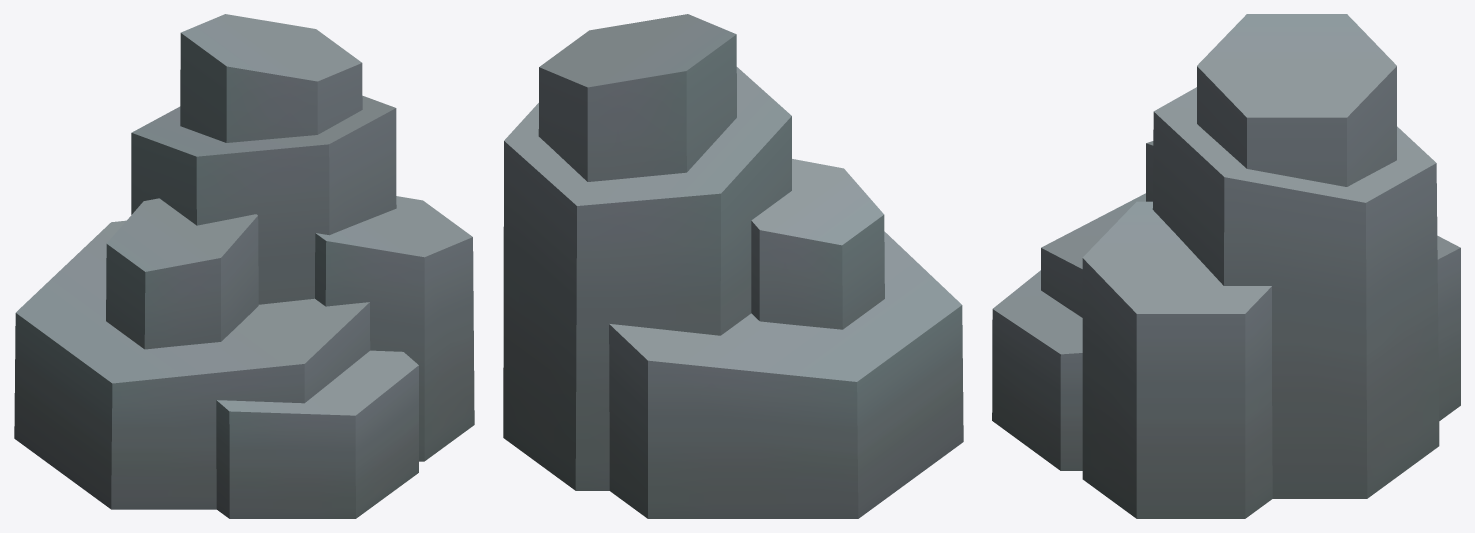
File: mountain-b.glb
The picture shows the model from 3 angles, left to right: view 1: azimuth 30°, elevation 25°; view 2: azimuth 150°, elevation 25°; view 3: azimuth 270°, elevation 25°; orthographic projection. The views are drawn at different scales.
Visible parts, largest first — view 1: mountain_B; view 2: mountain_B; view 3: mountain_B.
Part boxes in pixels (box(x1,y1,x2,y2)): mountain_B: box(14, 14, 474, 518); mountain_B: box(503, 14, 963, 518); mountain_B: box(992, 14, 1460, 518).
Size of the model in its own units: 1.8 by 1.77 by 1.88.
Materials: 1 (1 with a texture image).
